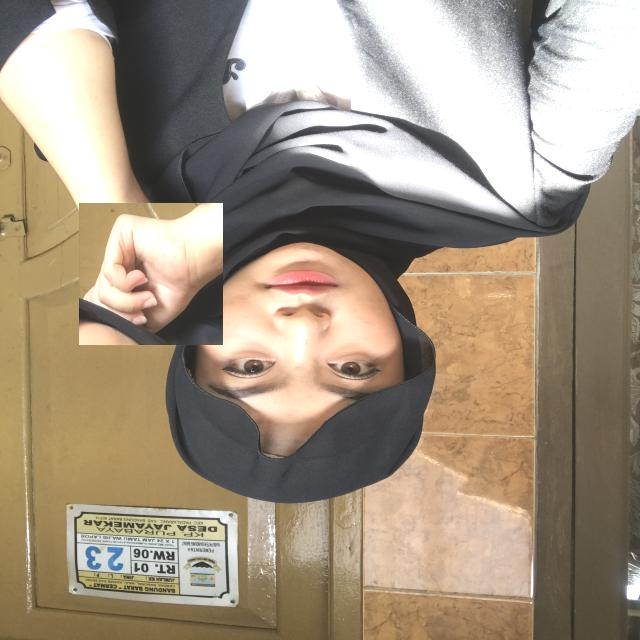ibu: (80, 202, 223, 346)
